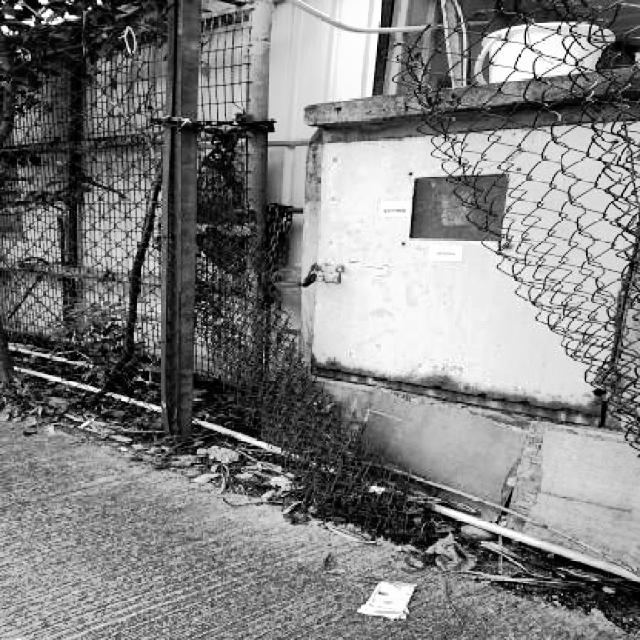anomaly-fence: (157, 8, 640, 562)
